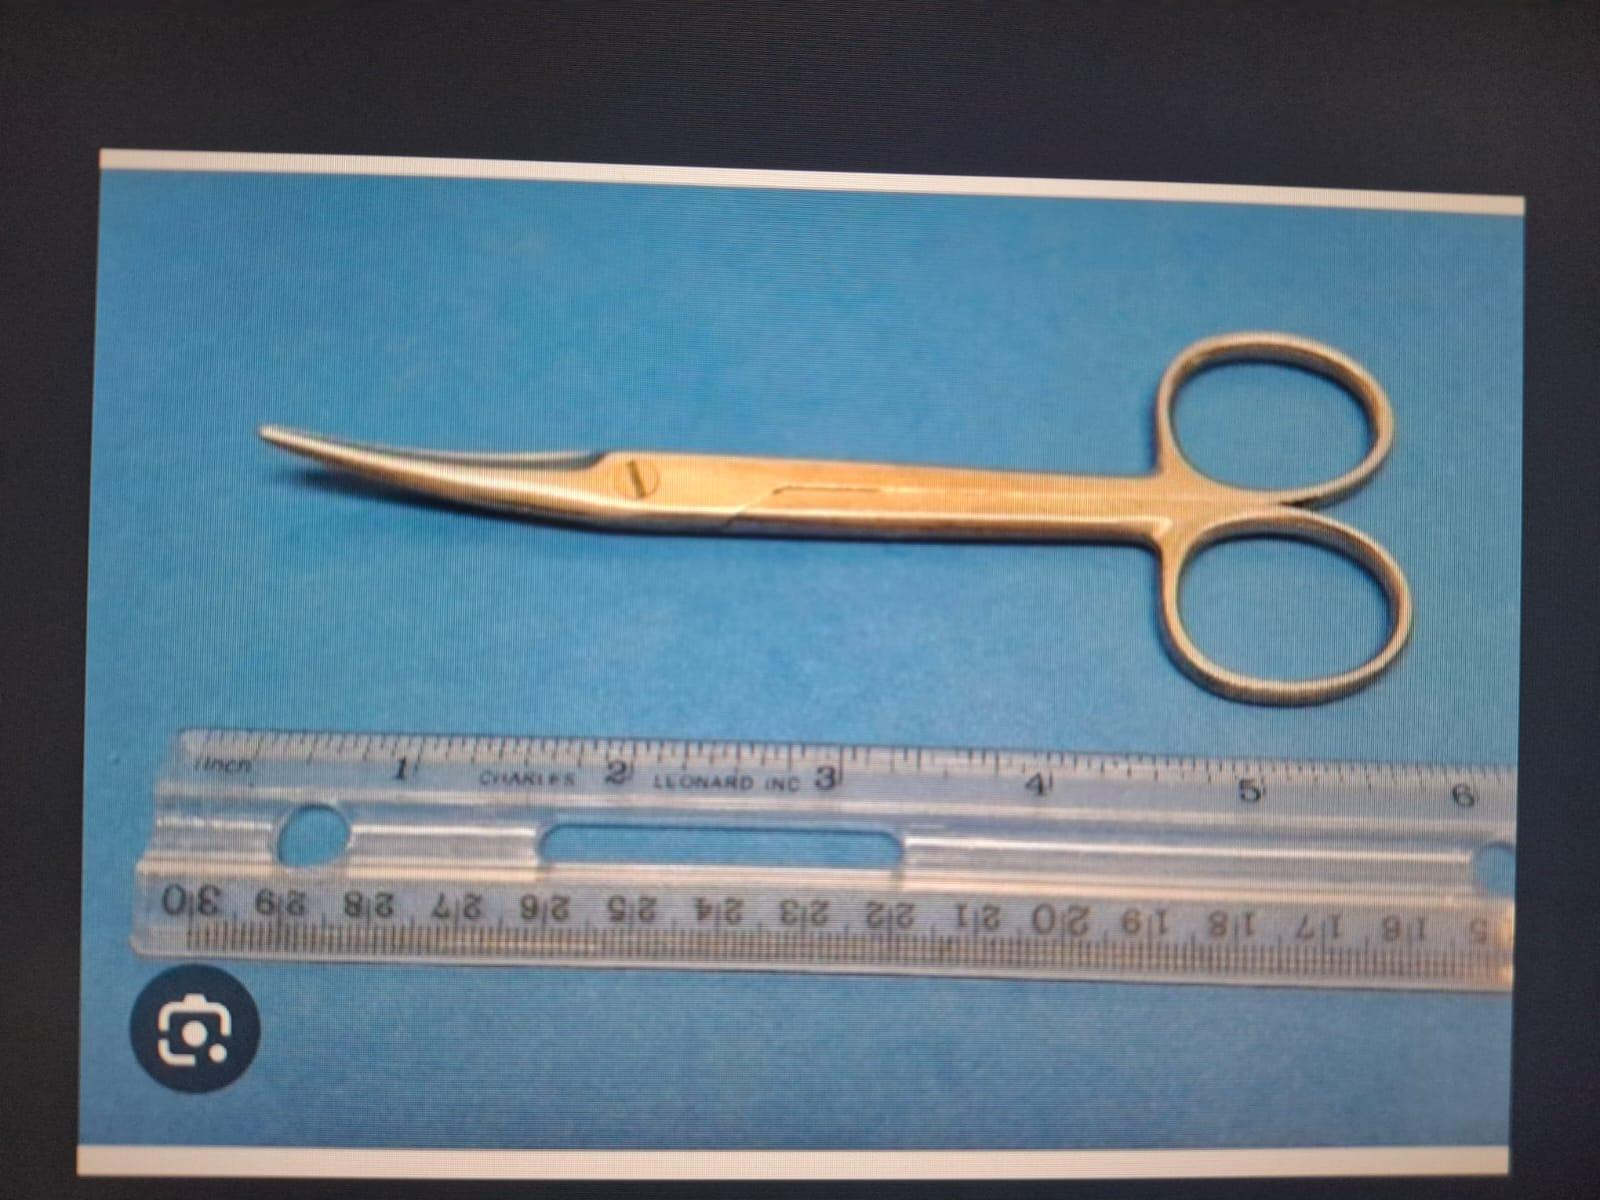Curved Mayo: (238, 318, 1422, 718)
